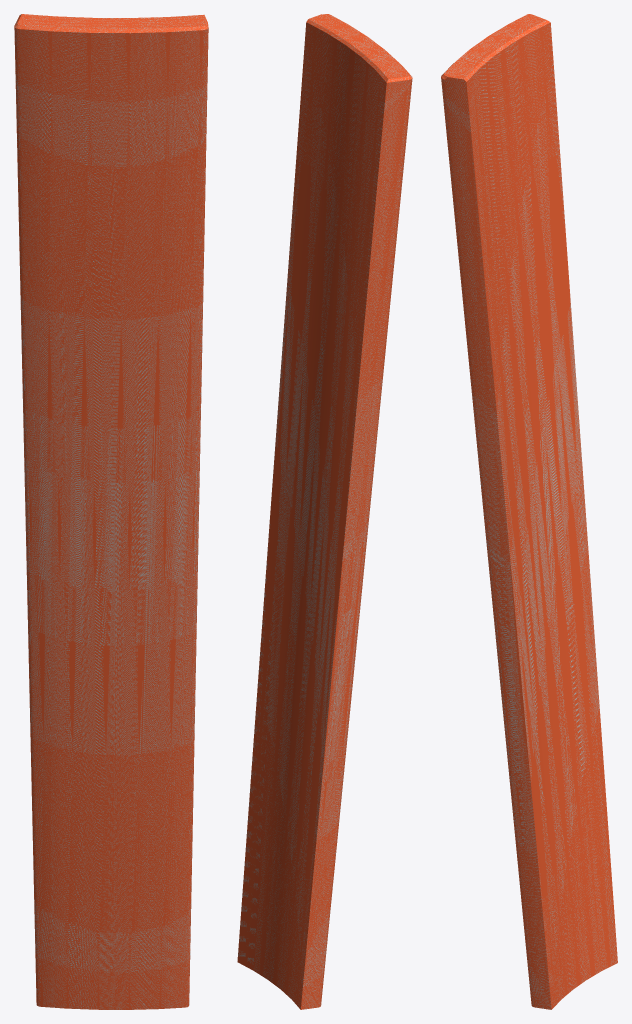
File: original-4.obj
3 renders of one model, left to right at view 1: azimuth 30°, elevation 25°; view 2: azimuth 150°, elevation 25°; view 3: azimuth 270°, elevation 25°, orthographic. The views are drawn at different scales.
Visible parts, largest first — view 1: #ID5; view 2: #ID5; view 3: #ID5.
Part boxes in pixels (<box>): #ID5: <box>14,14,208,1009</box>; #ID5: <box>237,14,412,1009</box>; #ID5: <box>441,14,617,1009</box>.
Bounding box in the file's own units: 0.1907 × 1.02 × 0.1789.
